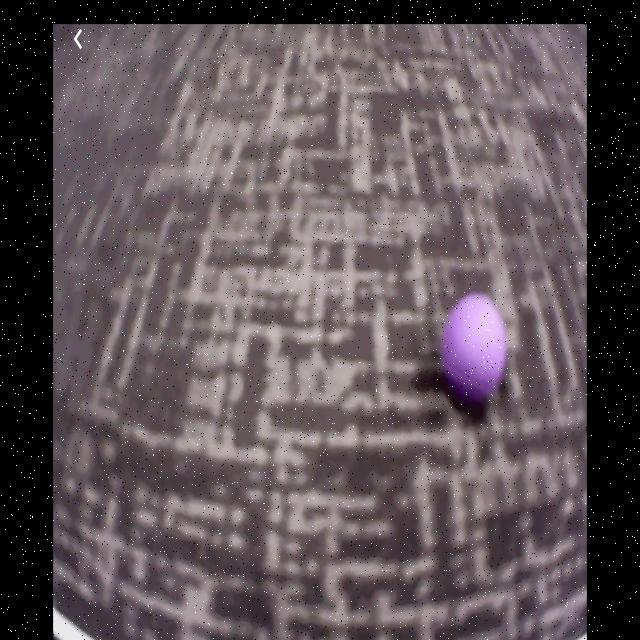ball: (443, 296, 508, 403)
